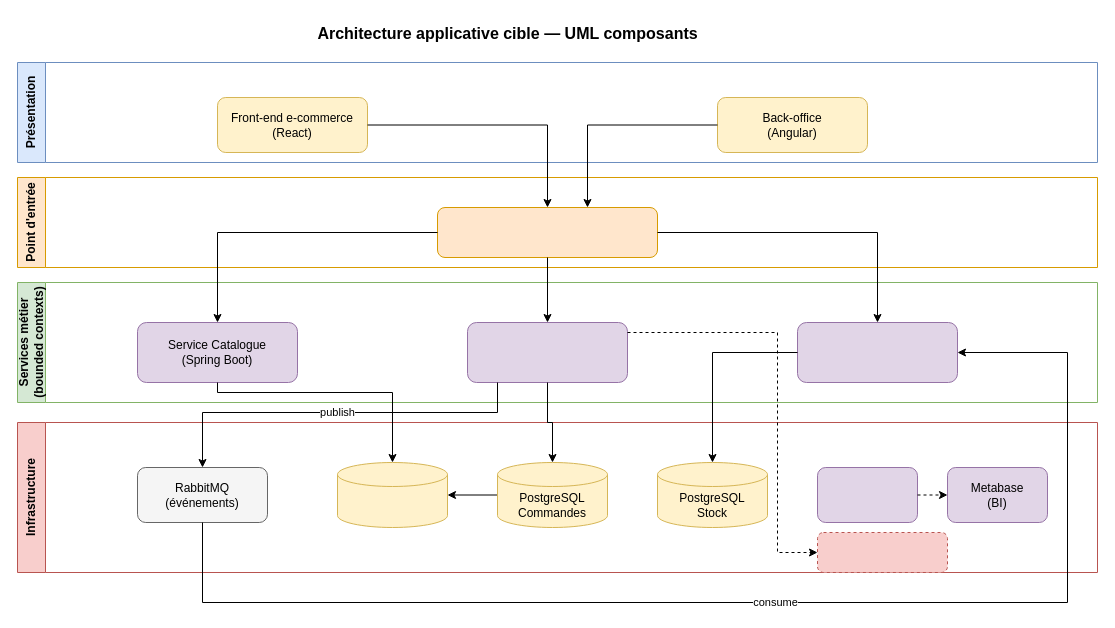
The diagram is 1115 pixels wide and 628 high, and some of its shapes have lost their labels. The shapes that lost their labels are listed below. From the top down, each one's box as (x1, y1, x2, y2) in pixels, then its label:
(436, 206, 658, 258): API Gateway (Spring Cloud Gateway)
(466, 322, 628, 382): Service Commandes (Spring Boot)
(796, 322, 958, 382): Service Stock (Spring Boot)
(336, 462, 448, 528): PostgreSQL Catalogue
(816, 466, 918, 522): Debezium (CDC)
(816, 532, 948, 572): API Paiement (externe)
